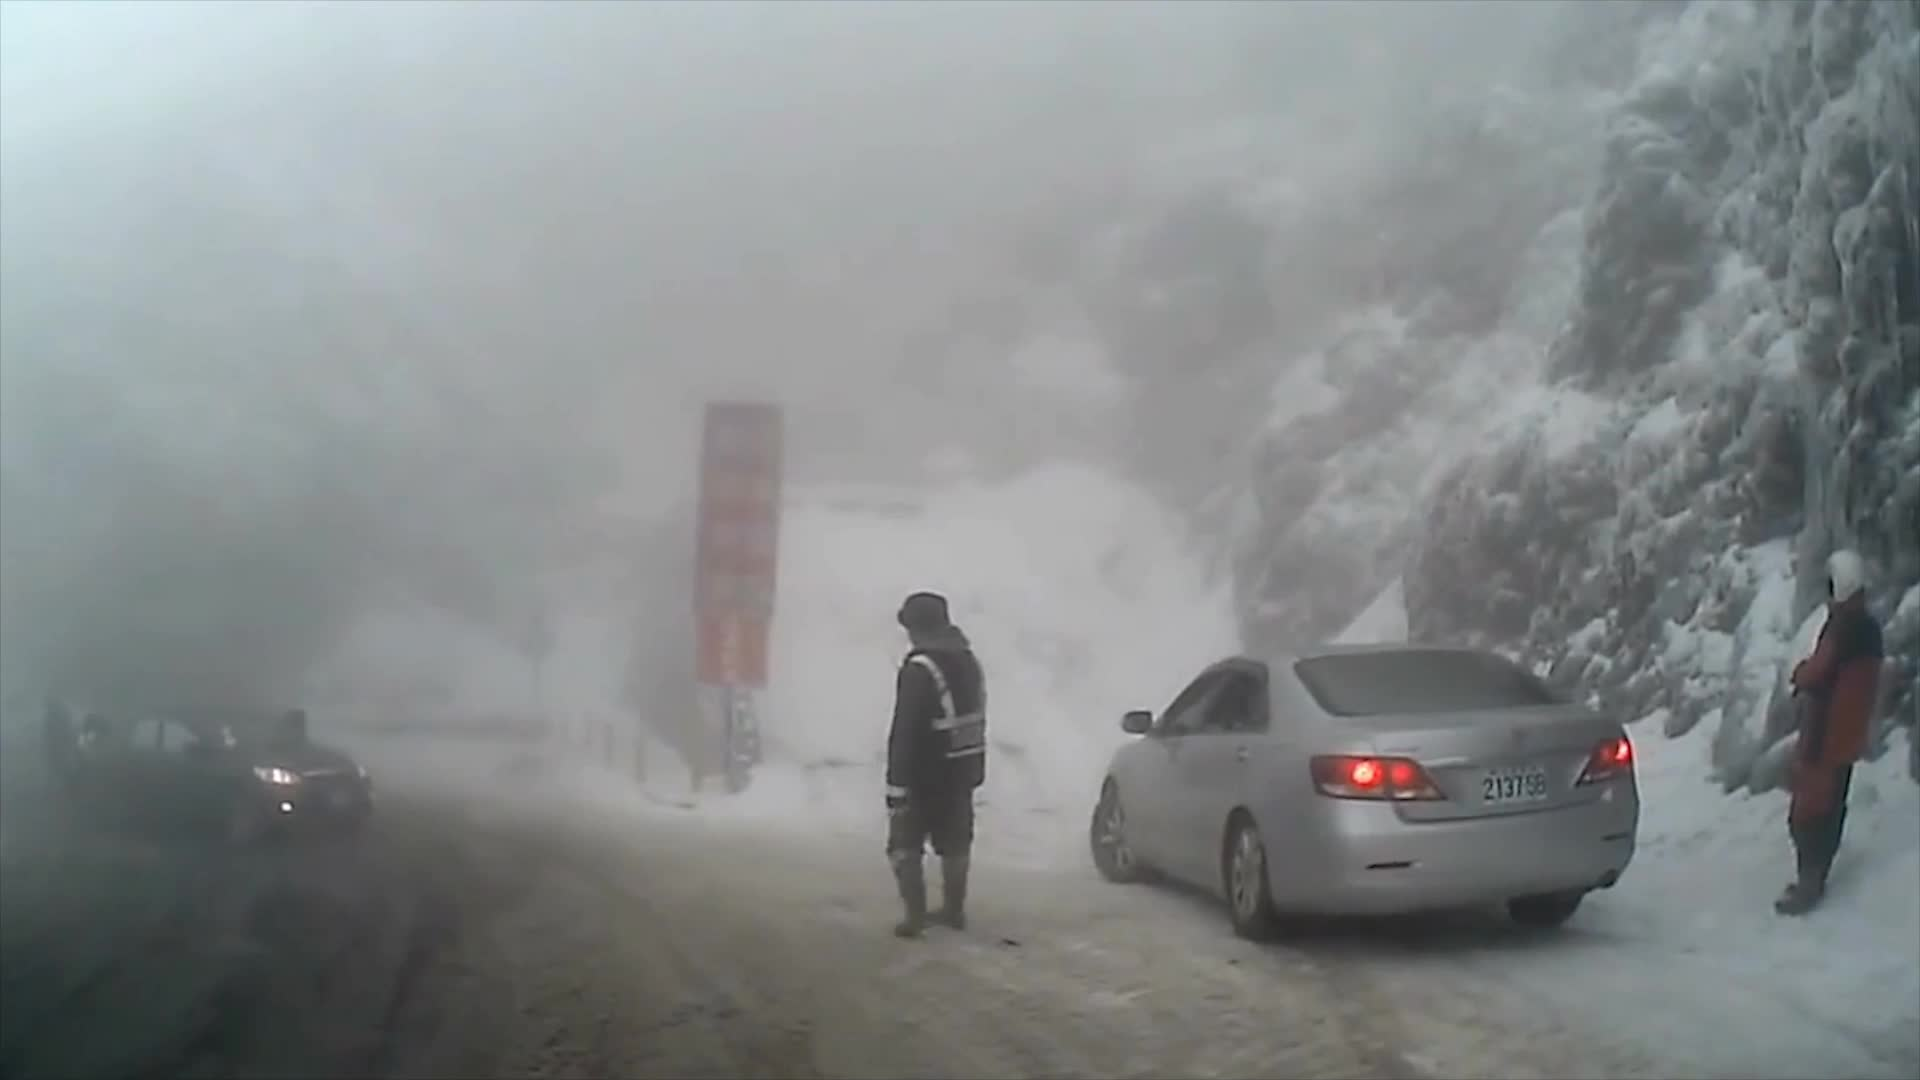pedestrian: (1774, 548, 1890, 918), (883, 591, 987, 942)
vehicle: (1087, 641, 1639, 942), (88, 704, 370, 854)
